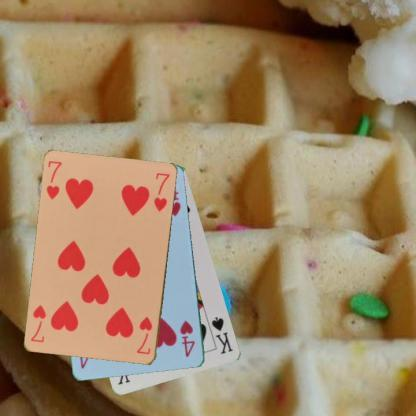4h: (178, 318, 196, 359)
7h: (43, 158, 63, 202), (134, 314, 154, 356)
Ks: (209, 314, 235, 356)
